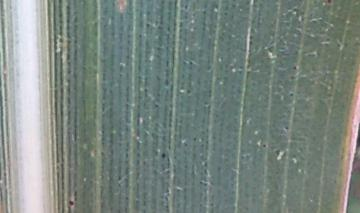tarspot: (66, 197, 75, 210), (283, 122, 291, 132), (292, 64, 300, 72), (160, 151, 167, 160), (289, 89, 295, 99), (325, 1, 337, 6), (260, 144, 267, 150), (290, 75, 297, 80)
